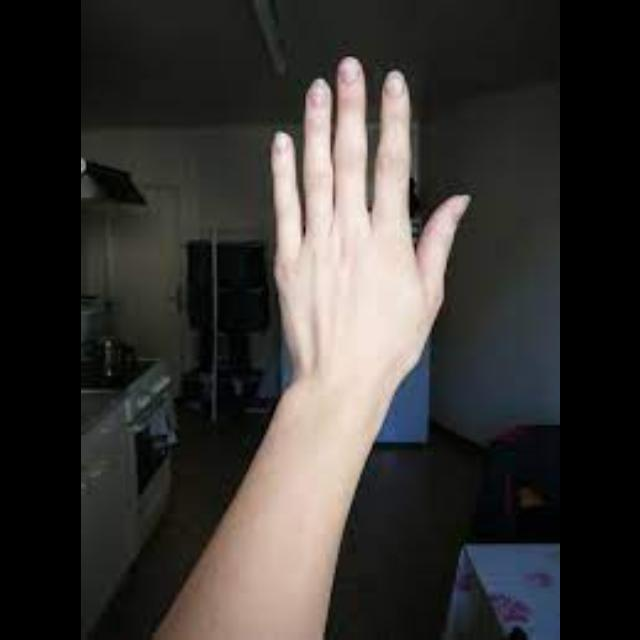bare_hand: (269, 51, 468, 369)
